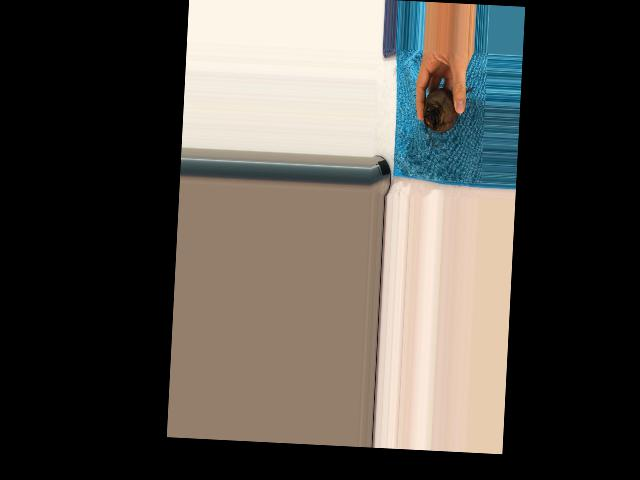beet: (422, 84, 474, 148)
